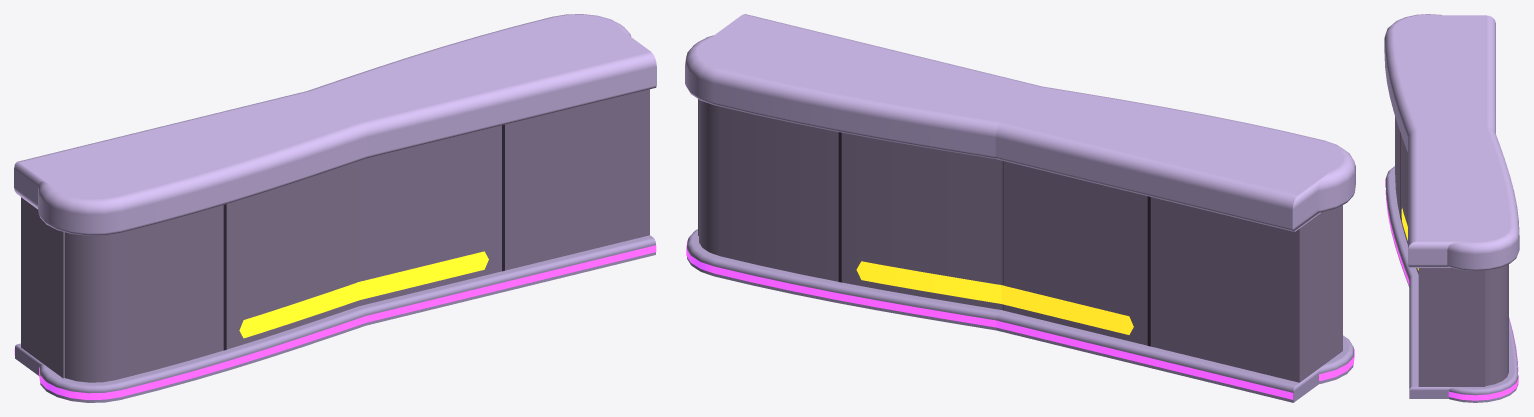
Rendered from wall_stone.glb.
3 renders of one model, left to right at view 1: azimuth 30°, elevation 25°; view 2: azimuth 150°, elevation 25°; view 3: azimuth 270°, elevation 25°, orthographic. The views are drawn at different scales.
Visible parts, largest first — view 1: wall_straight_Body, wall_module_Body, wall_module_Cap, wall_straight_Cap, wall_module_Base, wall_straight_Base, wall_module_Neon, wall_straight_Amber, wall_module_Amber, wall_straight_Neon, wall_module_Seam; view 2: wall_straight_Body, wall_module_Body, wall_straight_Cap, wall_module_Cap, wall_module_Base, wall_straight_Base, wall_module_Amber, wall_module_Neon, wall_straight_Amber, wall_straight_Neon, wall_module_Seam, wall_straight_Seam; view 3: wall_module_Cap, wall_straight_Cap, wall_straight_Body, wall_module_Body, wall_module_Base, wall_straight_Base, wall_module_Neon.
Part boxes in pixels (<box>): wall_straight_Body: <box>21,89,649,378</box>; wall_module_Body: <box>65,161,359,382</box>; wall_module_Cap: <box>38,14,631,235</box>; wall_straight_Cap: <box>14,19,656,208</box>; wall_module_Base: <box>39,297,395,402</box>; wall_straight_Base: <box>15,235,655,380</box>; wall_module_Neon: <box>39,316,366,399</box>; wall_straight_Amber: <box>357,251,488,299</box>; wall_module_Amber: <box>239,282,359,338</box>; wall_straight_Neon: <box>14,245,656,354</box>; wall_module_Seam: <box>223,204,226,350</box>; wall_straight_Body: <box>698,99,1342,382</box>; wall_module_Body: <box>699,99,1001,309</box>; wall_straight_Cap: <box>697,14,1343,231</box>; wall_module_Cap: <box>685,32,1355,212</box>; wall_module_Base: <box>687,229,1353,383</box>; wall_straight_Base: <box>695,236,1322,402</box>; wall_module_Amber: <box>856,261,1003,303</box>; wall_module_Neon: <box>686,241,1354,380</box>; wall_straight_Amber: <box>1001,285,1133,334</box>; wall_straight_Neon: <box>994,320,1293,399</box>; wall_module_Seam: <box>838,132,1003,309</box>; wall_straight_Seam: <box>1147,196,1150,346</box>; wall_module_Cap: <box>1384,14,1519,270</box>; wall_straight_Cap: <box>1408,15,1495,267</box>; wall_straight_Body: <box>1418,268,1485,386</box>; wall_module_Body: <box>1395,116,1508,386</box>; wall_module_Base: <box>1385,166,1518,402</box>; wall_straight_Base: <box>1409,268,1490,398</box>; wall_module_Neon: <box>1385,178,1518,400</box>.
Size of the model in its own units: 4.16 by 1.3 by 1.01.
